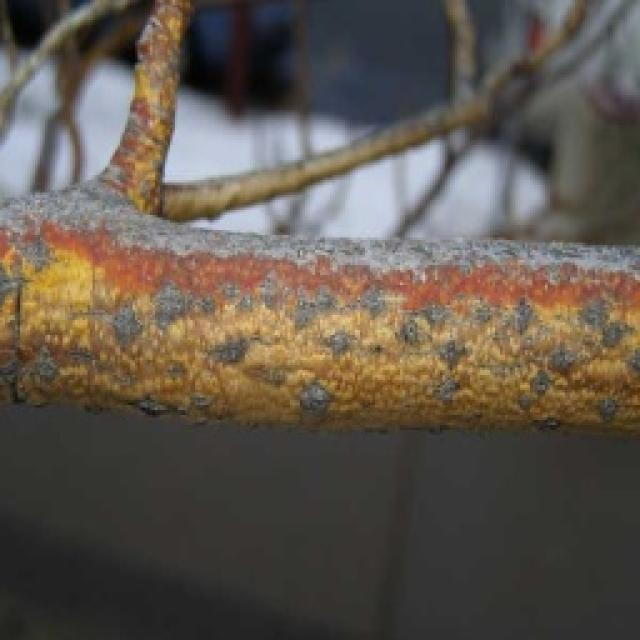Golden_canker: (0, 109, 640, 460)
